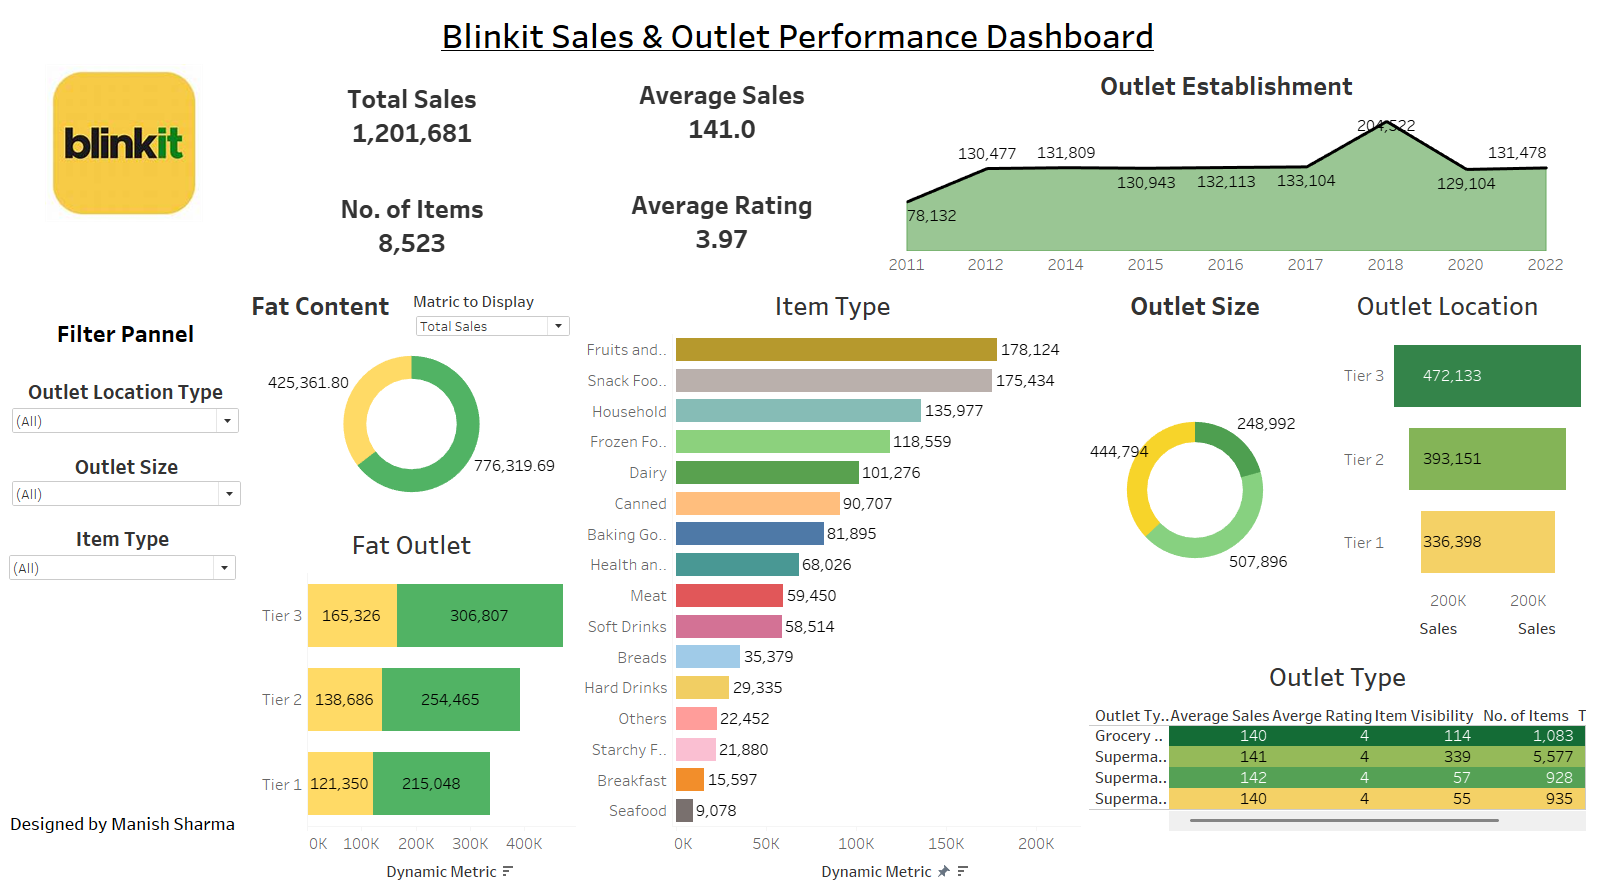

Layout of this report page (visuals, bound fields, positions):
{"tool":"tableau","page":{"name":"Dashboard 1","canvas":[1600,900],"ordinal":0},"visuals":[{"type":"text","box":[8,8,1584,51]},{"type":"image","param":"D:/teblue/Blinkit yt/blinkit logo.jpeg","box":[8,59,237,166]},{"type":"worksheet","title":"Total Sales","mark":"Automatic","box":[245,59,336.7,110]},{"type":"worksheet","title":"Average Sales","mark":"Automatic","box":[581.7,59,283.2,102.2]},{"type":"worksheet","title":"Outlet Establishment","mark":"Automatic","rows":["Calculation_2023805093125496832","Calculation_2023805093125496832"],"cols":["Outlet Establishment Year"],"box":[865,59,727,220]},{"type":"worksheet","title":"Average Rating","mark":"Automatic","box":[581.7,161.2,283.2,117.8]},{"type":"worksheet","title":"No. of Items","mark":"Automatic","box":[245,169,336.7,110]},{"type":"text","box":[8,225,237,667]},{"type":"worksheet","title":"Fat Content","mark":"Pie","rows":["Calculation_1677590872067584001","Calculation_1677590872067584001"],"box":[245,279,336.7,239]},{"type":"worksheet","title":"Item Type","mark":"Automatic","rows":["Item Type"],"cols":["Calculation_2023805093134839812"],"box":[581.7,279,505.1,613]},{"type":"worksheet","title":"Outlet Size","mark":"Pie","rows":["Calculation_1677590872067584001","Calculation_1677590872067584001"],"box":[1086.8,279,220,370.8]},{"type":"worksheet","title":"Outlet Location","mark":"Automatic","rows":["Outlet Location Type"],"cols":["Sales","Sales"],"box":[1306.8,279,285.2,370.8]},{"type":"parameter","param":"[Parameters].[Parameter 1]","box":[415,290,160,48]},{"type":"text","box":[51,296,153,72]},{"type":"filter","title":"Outlet Location","param":"[federated.1205dyz0830d3413aeq621xq160v].[none:Outlet Location Type:nk]","box":[11,376,233,71]},{"type":"filter","title":"Outlet Location","param":"[federated.1205dyz0830d3413aeq621xq160v].[none:Outlet Size:nk]","box":[11,451,235,55]},{"type":"worksheet","title":"Fat Outlet","mark":"Automatic","rows":["Outlet Location Type"],"cols":["Calculation_2023805093134839812"],"box":[245,518,336.7,374]},{"type":"filter","title":"Outlet Location","param":"[federated.1205dyz0830d3413aeq621xq160v].[none:Item Type:nk]","box":[8,523,233,60]},{"type":"worksheet","title":"Outlet Type","mark":"Square","rows":["Outlet Type"],"box":[1086.8,649.8,505.2,242.2]},{"type":"text","box":[4,794,241,56]}]}

Visuals, with their boxes in screenshot pixels (x1, y1, x2, y2), scaled from the page's 1600x900 canvas onto the 1601x890 screenshot:
text: rect(8, 8, 1593, 58)
image: rect(8, 58, 245, 222)
"Total Sales" worksheet: rect(245, 58, 582, 167)
"Average Sales" worksheet: rect(582, 58, 865, 159)
"Outlet Establishment" worksheet: rect(866, 58, 1593, 276)
"Average Rating" worksheet: rect(582, 159, 865, 276)
"No. of Items" worksheet: rect(245, 167, 582, 276)
text: rect(8, 222, 245, 882)
"Fat Content" worksheet (Pie marks): rect(245, 276, 582, 512)
"Item Type" worksheet: rect(582, 276, 1087, 882)
"Outlet Size" worksheet (Pie marks): rect(1087, 276, 1308, 643)
"Outlet Location" worksheet: rect(1308, 276, 1593, 643)
parameter: rect(415, 287, 575, 334)
text: rect(51, 293, 204, 364)
"Outlet Location" filter: rect(11, 372, 244, 442)
"Outlet Location" filter: rect(11, 446, 246, 500)
"Fat Outlet" worksheet: rect(245, 512, 582, 882)
"Outlet Location" filter: rect(8, 517, 241, 577)
"Outlet Type" worksheet (Square marks): rect(1087, 643, 1593, 882)
text: rect(4, 785, 245, 841)
